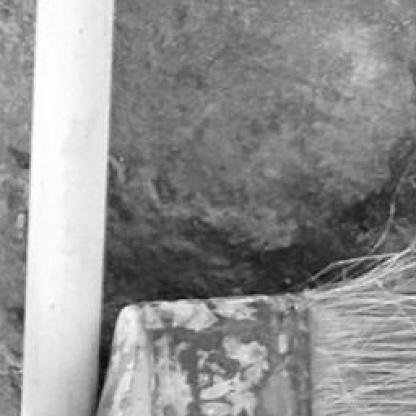PVC: (18, 1, 113, 414)
